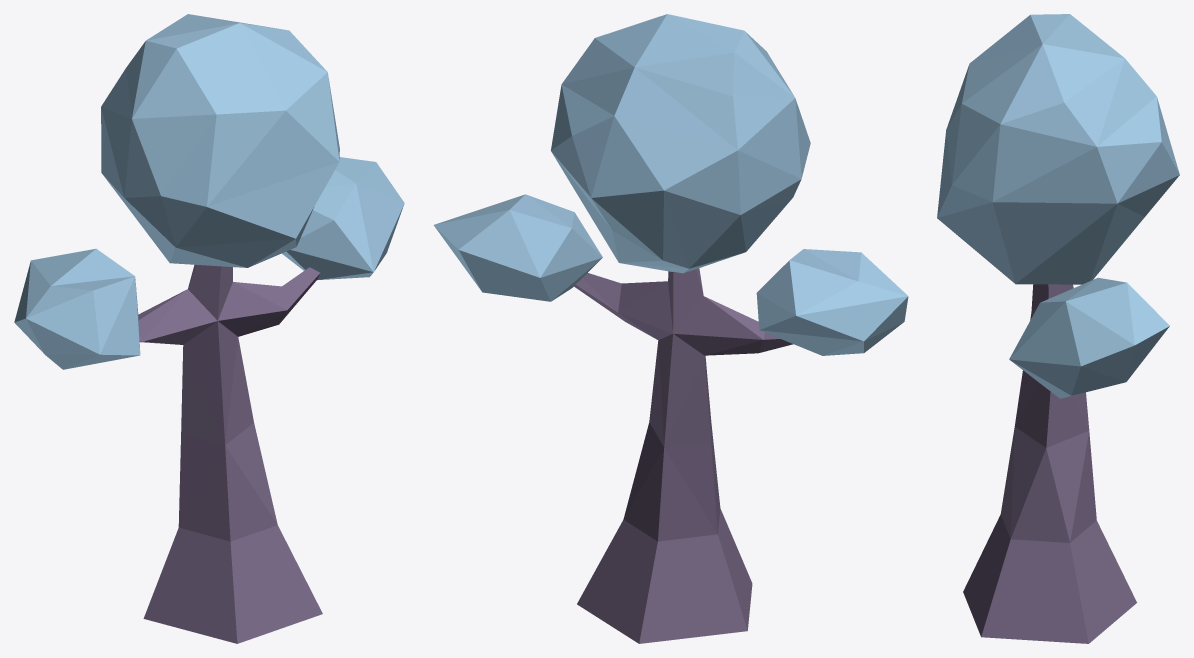
Rendered from Low_Poly_Tree_Grave2.fbx.
3 views of the same model, side by side, from view 1: azimuth 30°, elevation 25°; view 2: azimuth 150°, elevation 25°; view 3: azimuth 270°, elevation 25° (orthographic). The views are drawn at different scales.
Visible parts, largest first — view 1: Low_Poly_Tree_003; view 2: Low_Poly_Tree_003; view 3: Low_Poly_Tree_003.
Boxes of the visible parts, x1,y1,x2,y2 form: Low_Poly_Tree_003: [14, 14, 404, 643]; Low_Poly_Tree_003: [433, 14, 908, 643]; Low_Poly_Tree_003: [937, 14, 1179, 643].
Bounding box in the file's own units: 752 × 1017 × 394.
